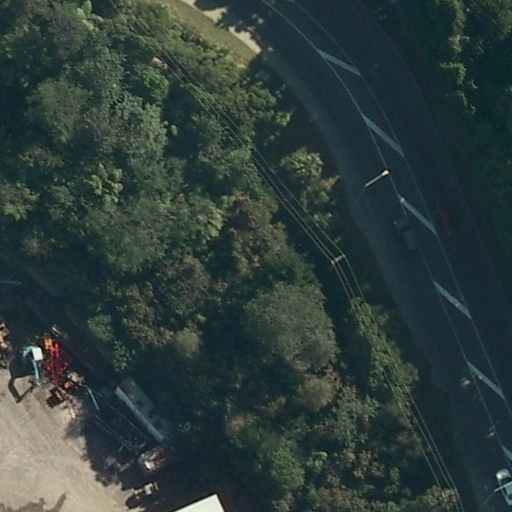DT: (324, 245, 349, 276)
